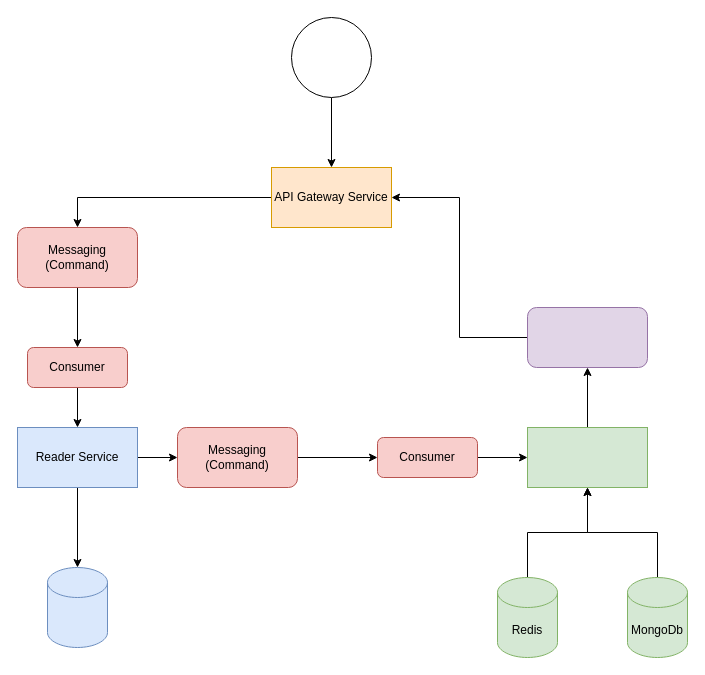
Image size: 705x675. Some labels were removed from this diagram. The shapes that lost their labels are listed below. From the top down, each one's box as (x1, y1, x2, y2) in pixels, then its label:
(290, 16, 372, 98): Client
(526, 306, 648, 368): gRPC (Query)
(526, 426, 648, 488): Writer Service
(46, 566, 108, 648): Postgres SQL
